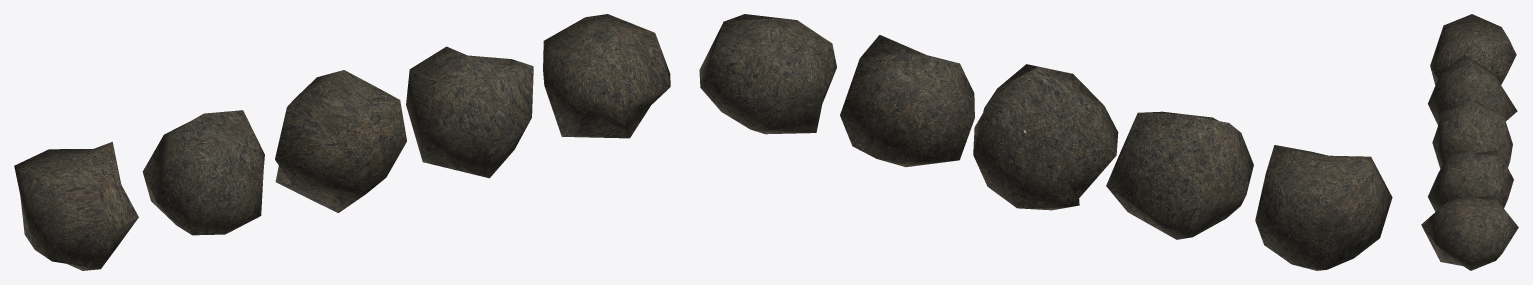
The model's file is meteoroids.glb.
3 views of the same model, side by side, from view 1: azimuth 30°, elevation 25°; view 2: azimuth 150°, elevation 25°; view 3: azimuth 270°, elevation 25° (orthographic). The views are drawn at different scales.
Parts seen in each view (by area): view 1: Cube.002, Cube.003, Cube.004, Cube.001, Cube; view 2: Cube.002, Cube.001, Cube.003, Cube, Cube.004; view 3: Cube.004, Cube, Cube.002, Cube.003, Cube.001.
Part boxes in pixels (x1,y1,x2,y2): Cube.002: (275, 70, 406, 213); Cube.003: (406, 46, 533, 178); Cube.004: (543, 14, 670, 138); Cube.001: (142, 110, 264, 235); Cube: (14, 142, 138, 270); Cube.002: (973, 64, 1118, 210); Cube.001: (1106, 111, 1253, 239); Cube.003: (840, 35, 974, 167); Cube: (1255, 145, 1392, 270); Cube.004: (699, 14, 836, 134); Cube.004: (1421, 196, 1518, 270); Cube: (1430, 14, 1516, 84); Cube.002: (1432, 100, 1512, 168); Cube.003: (1428, 150, 1513, 211); Cube.001: (1428, 55, 1517, 125).
Bounding box in the file's own units: 19.72 × 4.03 × 3.9.
Materials: 1 (1 with a texture image).
